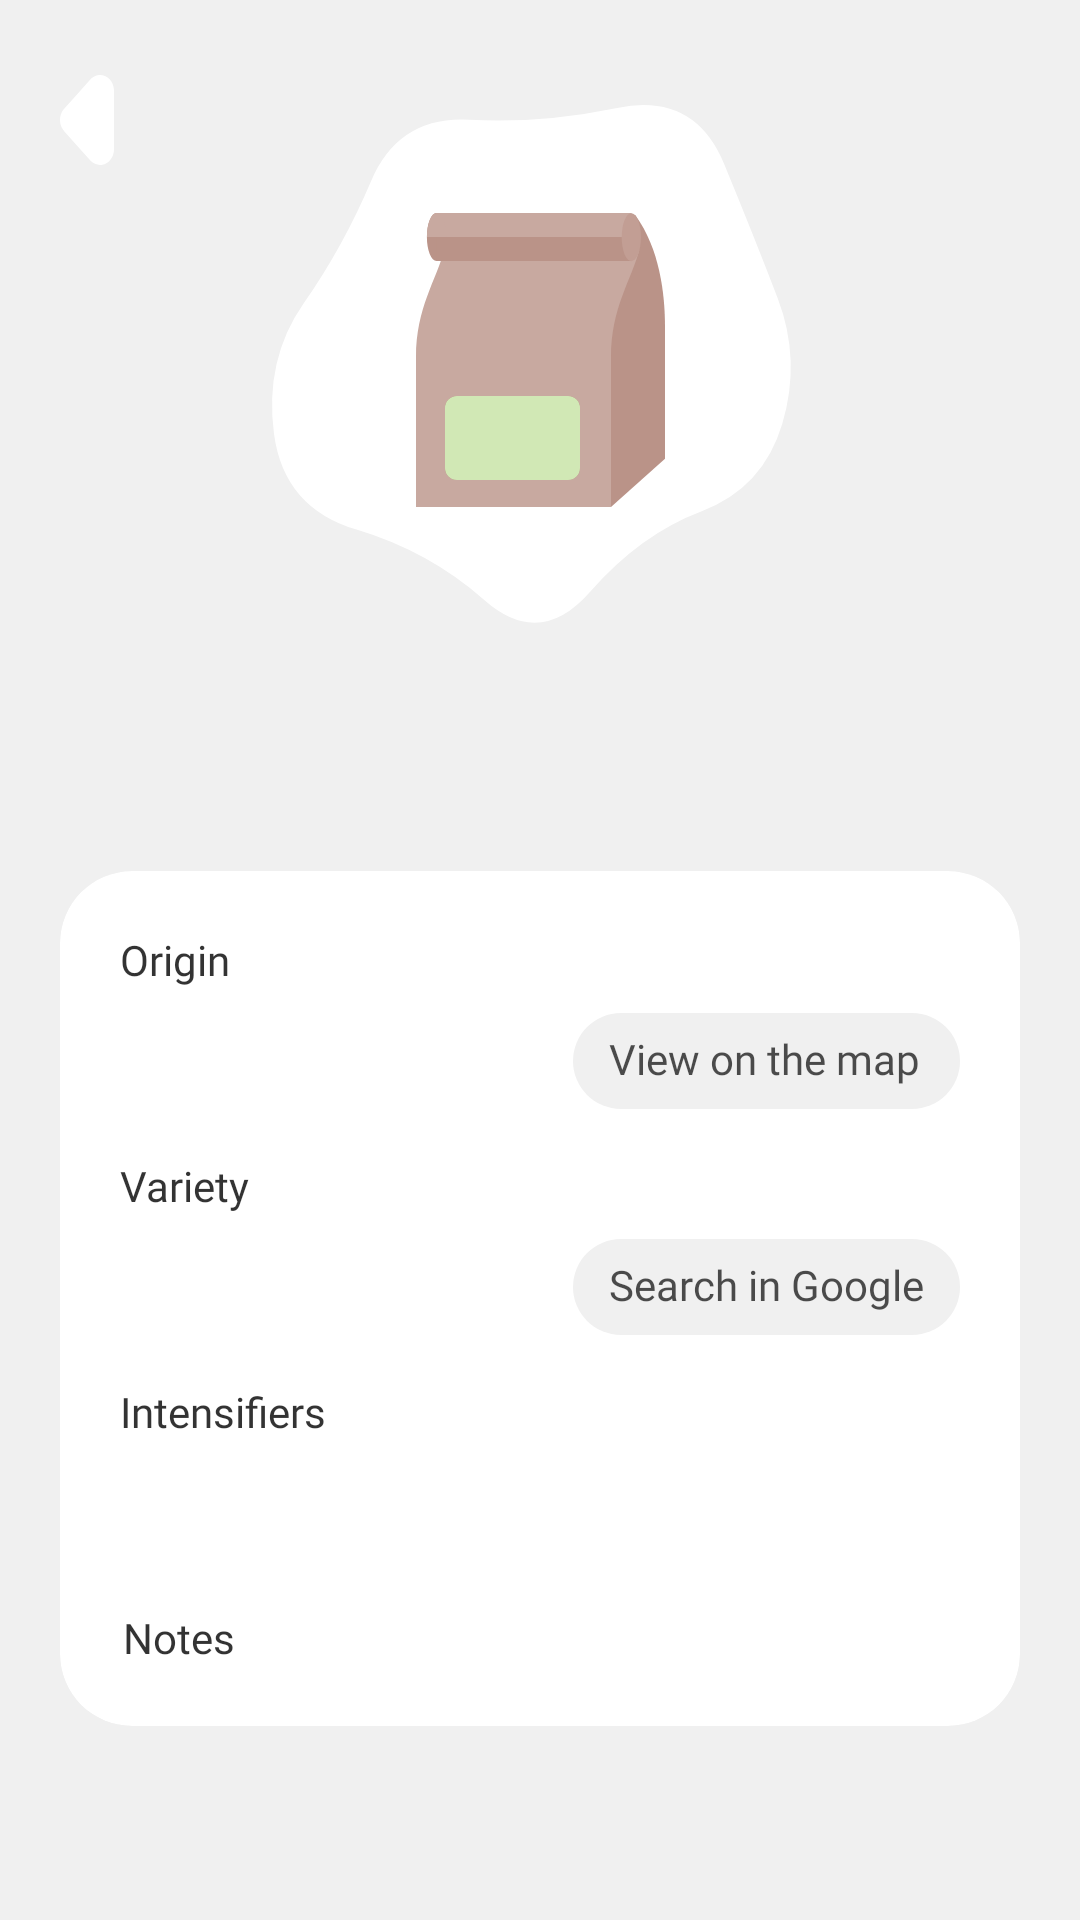

Icons on this 1080 x 1920 Android screen, each with its box as (x1=x1, y1=y1, x2=x2, y2=y2):
coffee bag: (x1=416, y1=213, x2=665, y2=507)
